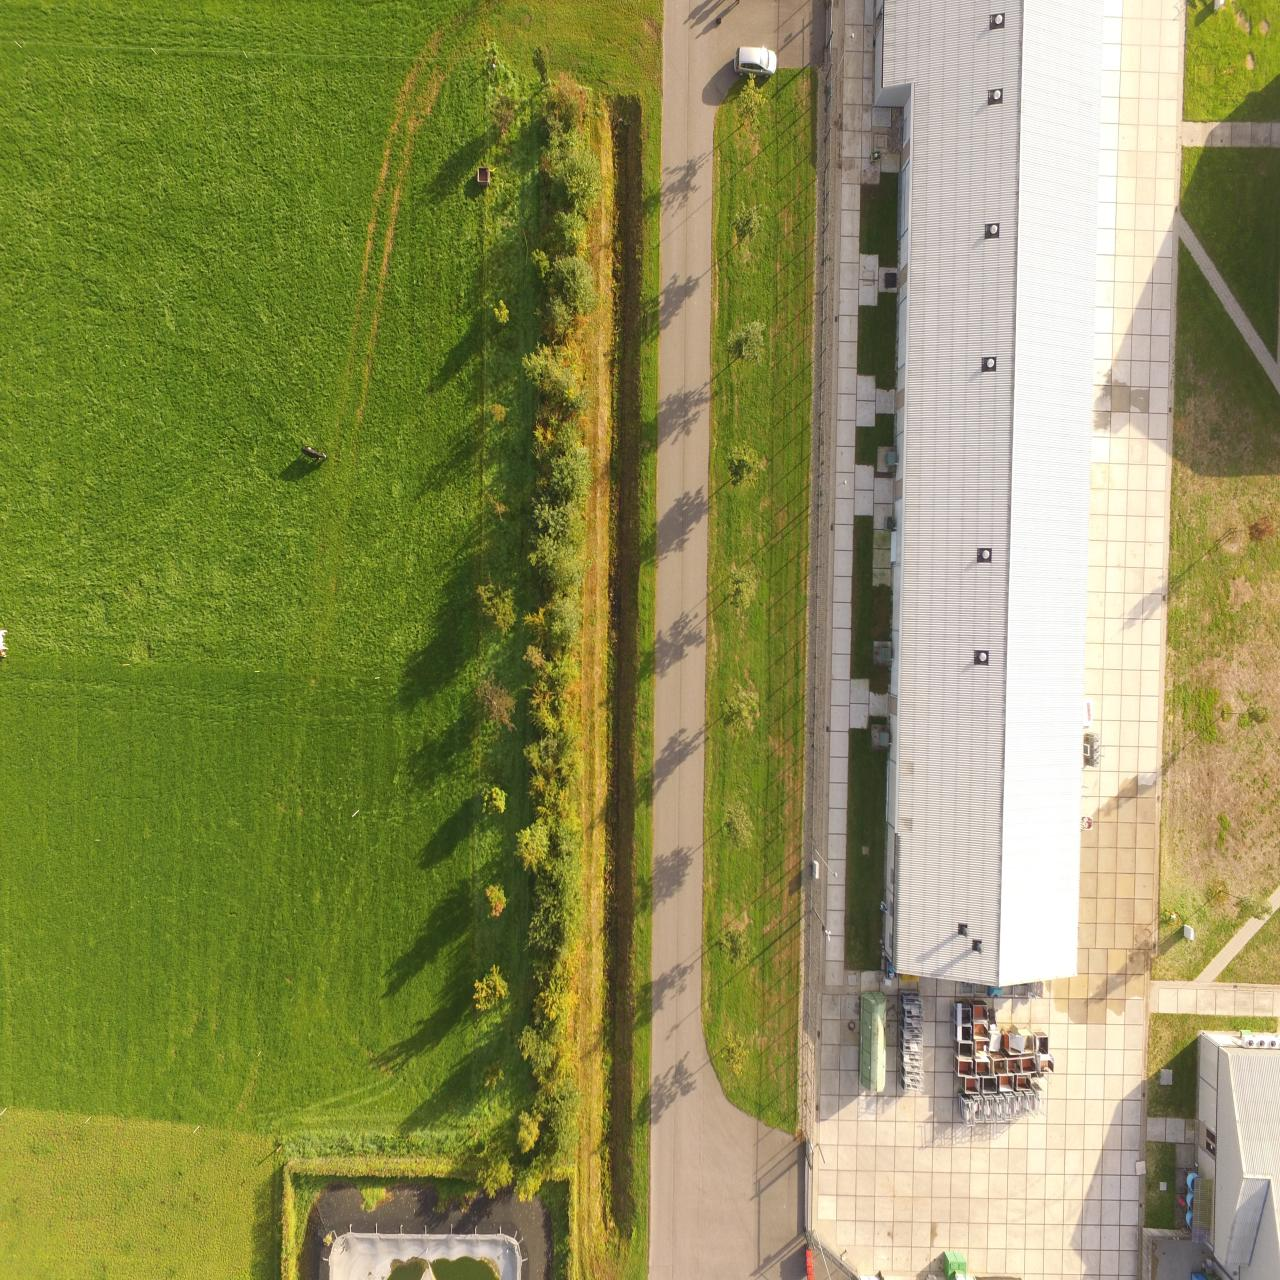cow: (300, 444, 328, 459)
